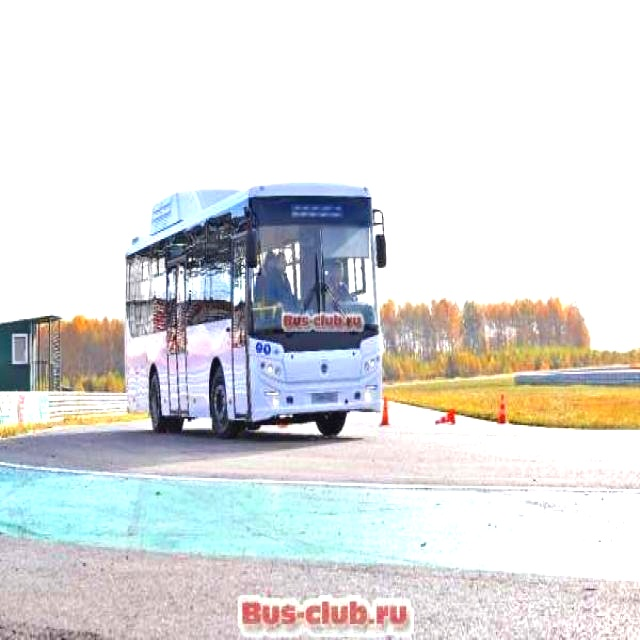bus: (86, 133, 425, 487)
